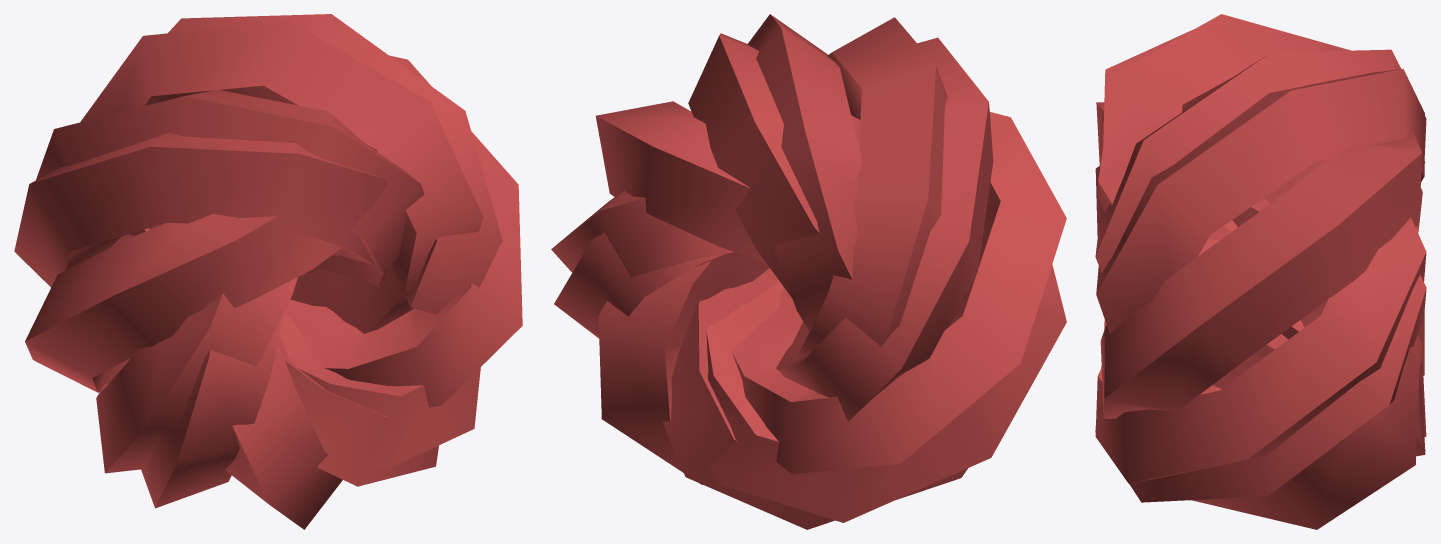
The model's file is points.fbx.
3 renders of one model, left to right at view 1: azimuth 30°, elevation 25°; view 2: azimuth 150°, elevation 25°; view 3: azimuth 270°, elevation 25°, orthographic.
Visible parts, largest first — view 1: Box001; view 2: Box001; view 3: Box001.
Boxes of the visible parts, x1,y1,x2,y2 form: Box001: [14, 14, 522, 529]; Box001: [551, 14, 1066, 529]; Box001: [1095, 14, 1426, 529].
Bounding box in the file's own units: 1.09 × 1.09 × 0.7093.
Materials: 1 (1 with a texture image).
